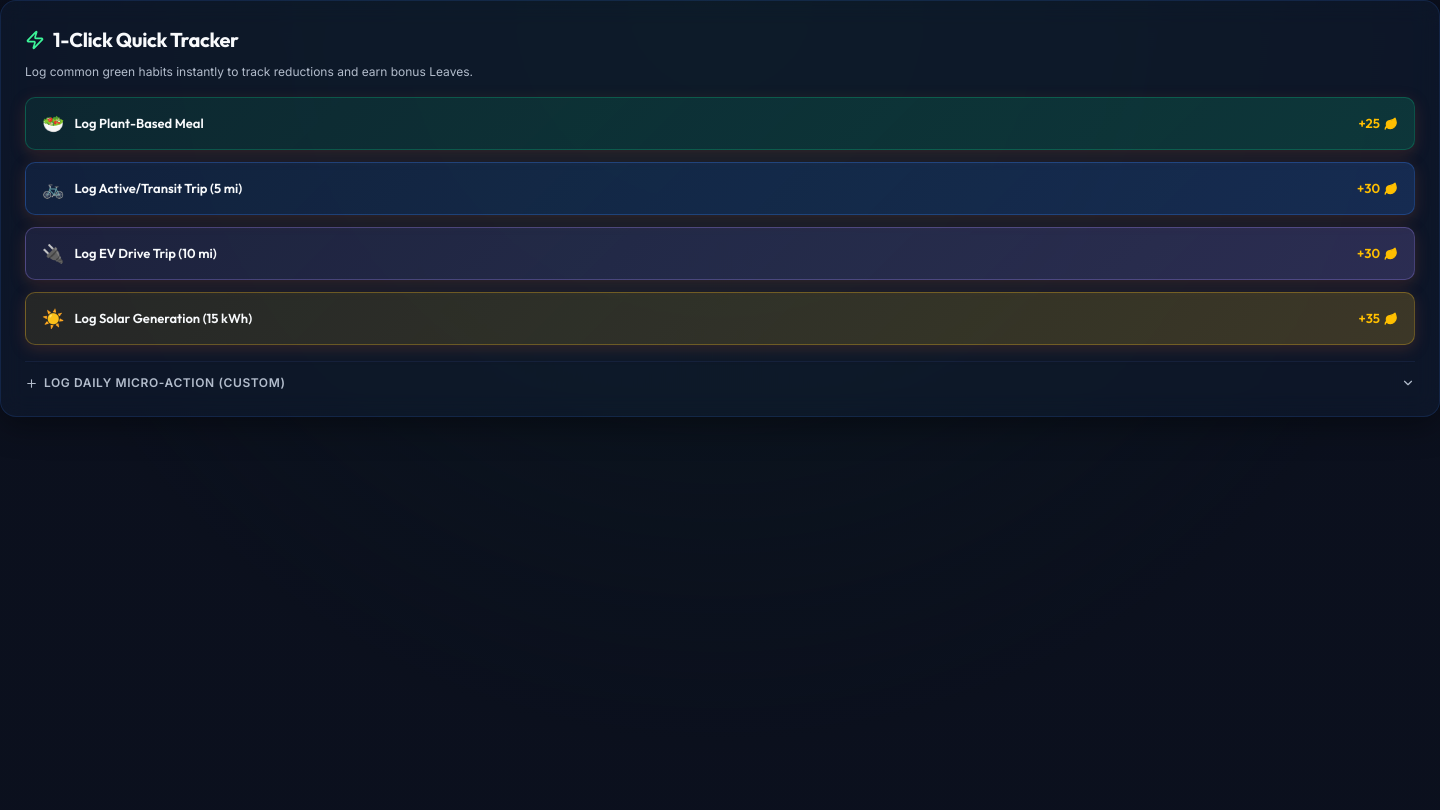
Test: QuickTracker component › hides custom form again when toggle is clicked twice
Step 1. Click the button "Log Daily Micro-Action (Custom)" → (165, 382), box [25,374,1415,392]
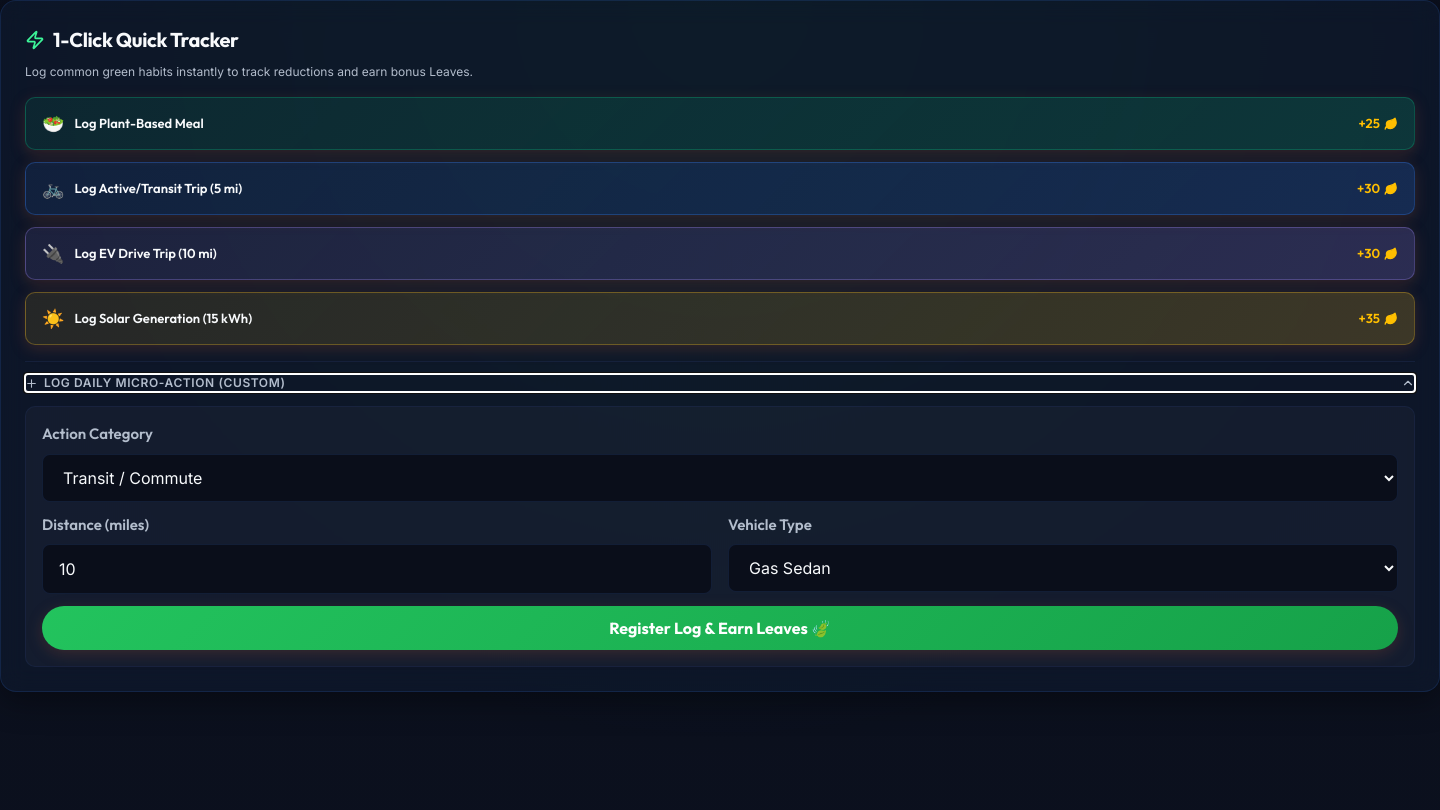
Step 2. Click the button "Log Daily Micro-Action (Custom)" → (165, 382), box [25,374,1415,392]
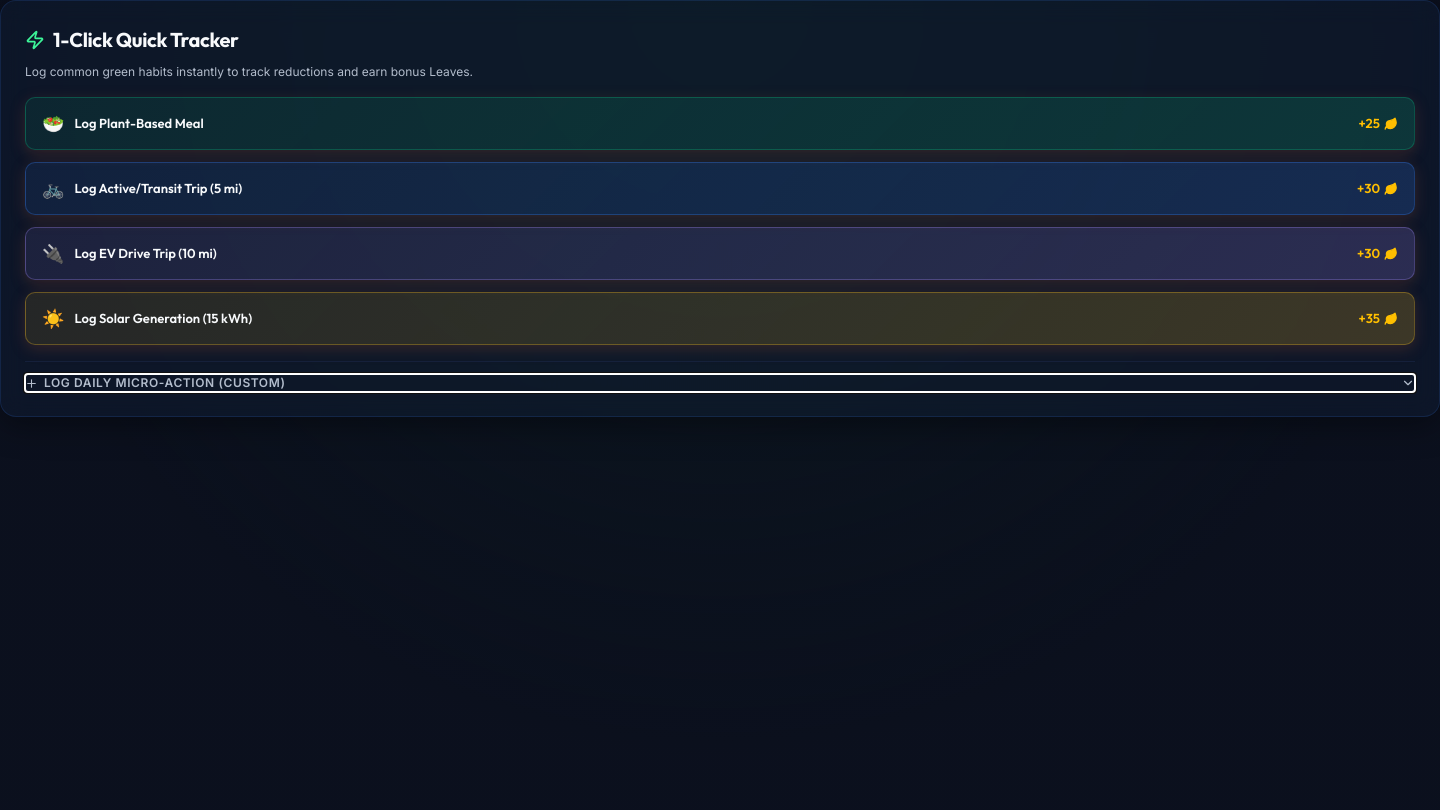
Expected: the button "Register Log & Earn Leaves" is gone
